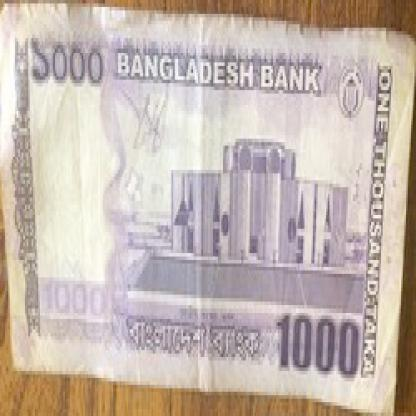One Thousand taka: (273, 308, 361, 385), (27, 35, 108, 97), (40, 274, 108, 322)
